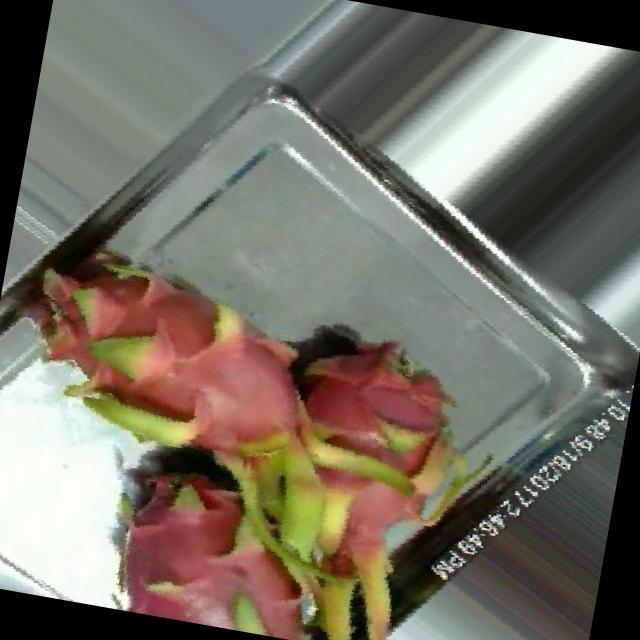Fruit: (245, 302, 492, 524), (81, 439, 282, 633)
